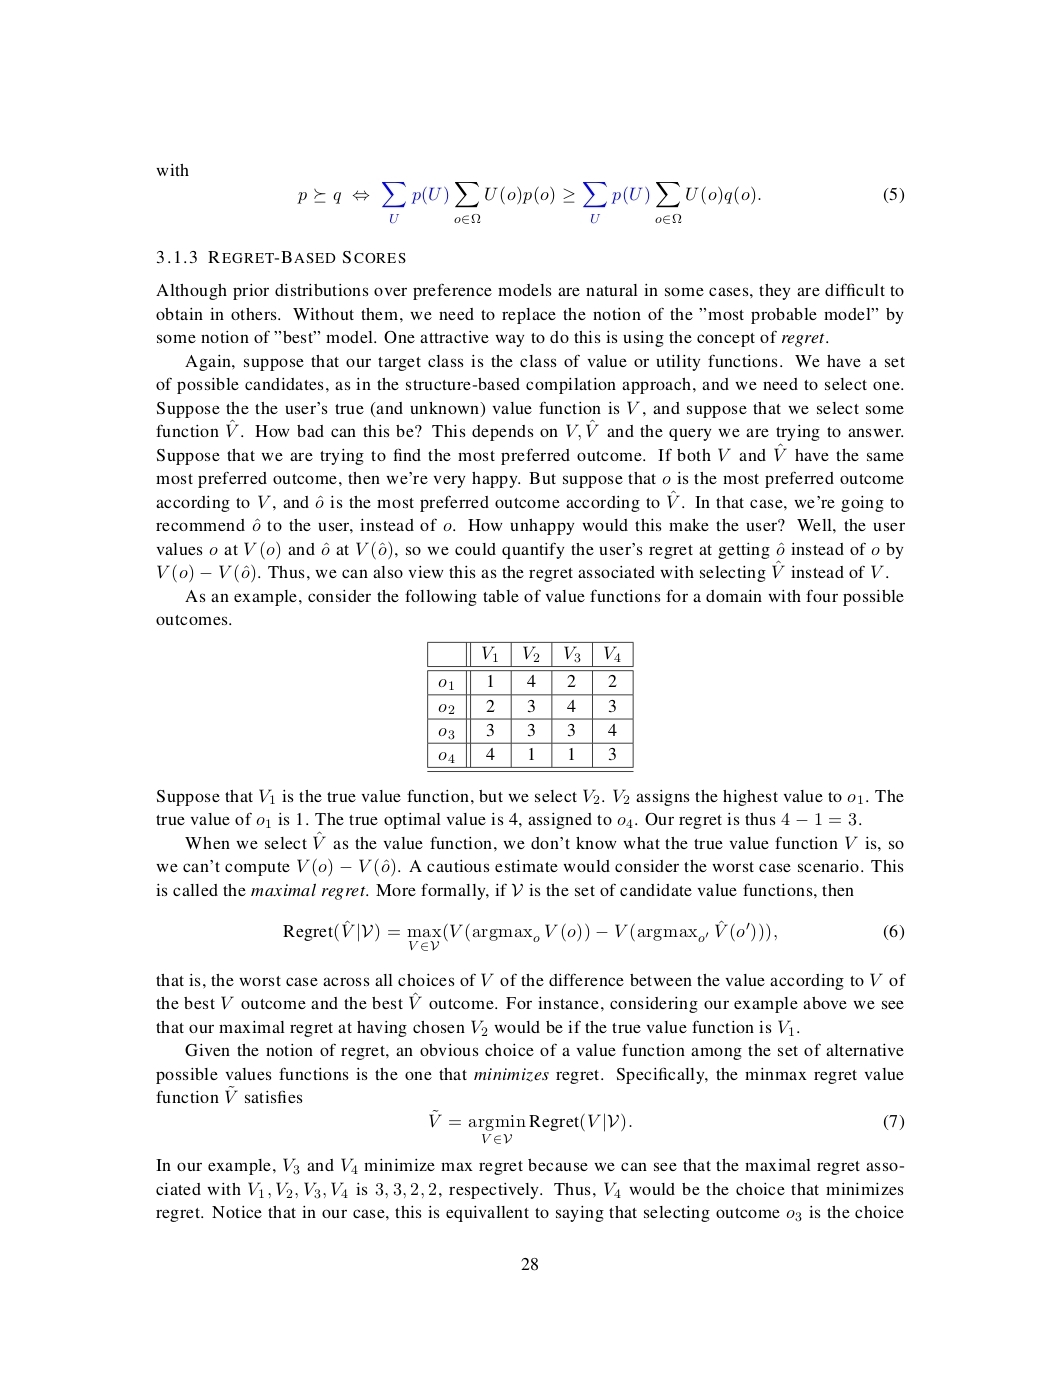Table: (427, 641, 633, 771)
formula: (296, 182, 904, 223), (283, 919, 904, 951), (429, 1110, 904, 1143)
